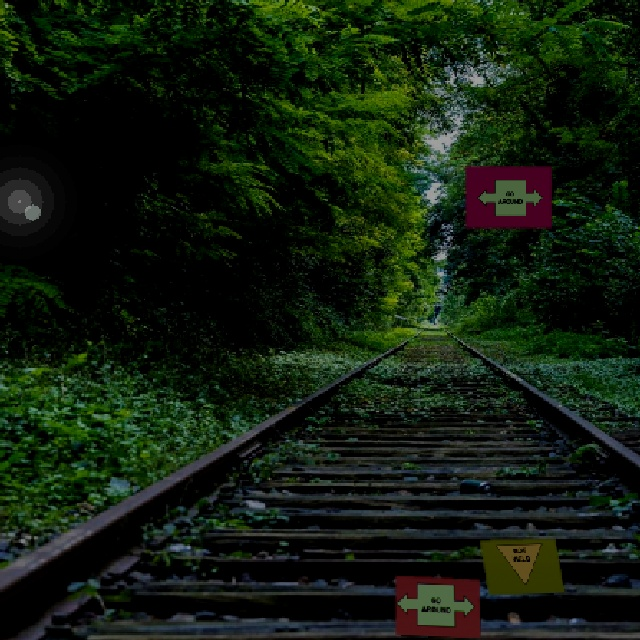GO_AROUND: (394, 579, 475, 629), (476, 179, 542, 214)
NOT_YIELD: (494, 542, 548, 585)
